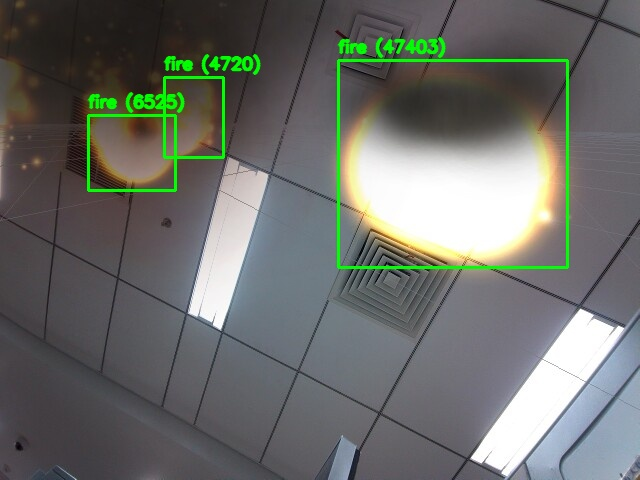fire: (338, 60, 567, 267), (88, 115, 175, 190), (164, 77, 223, 157)
